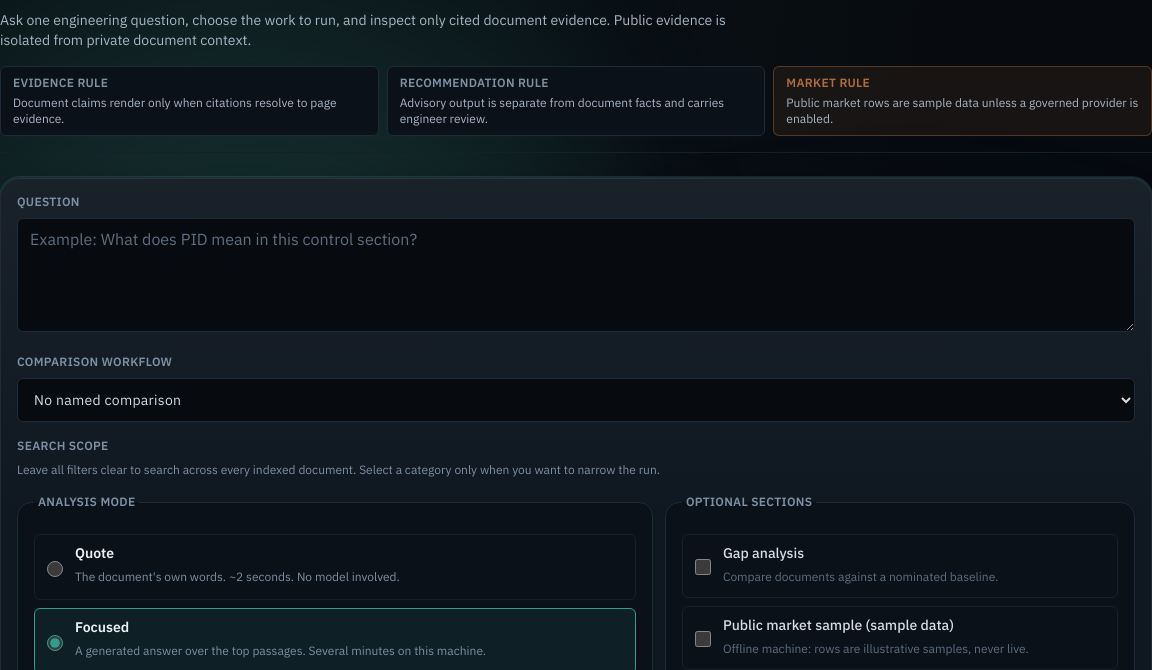
Test: removed sentences: the disclosure is never empty › renders the text, and the reason, when the payload carries them
Step 1. Type "submittals" into the text box labelled "Question" → (576, 275), box [17,218,1135,332]
(page scrolled)
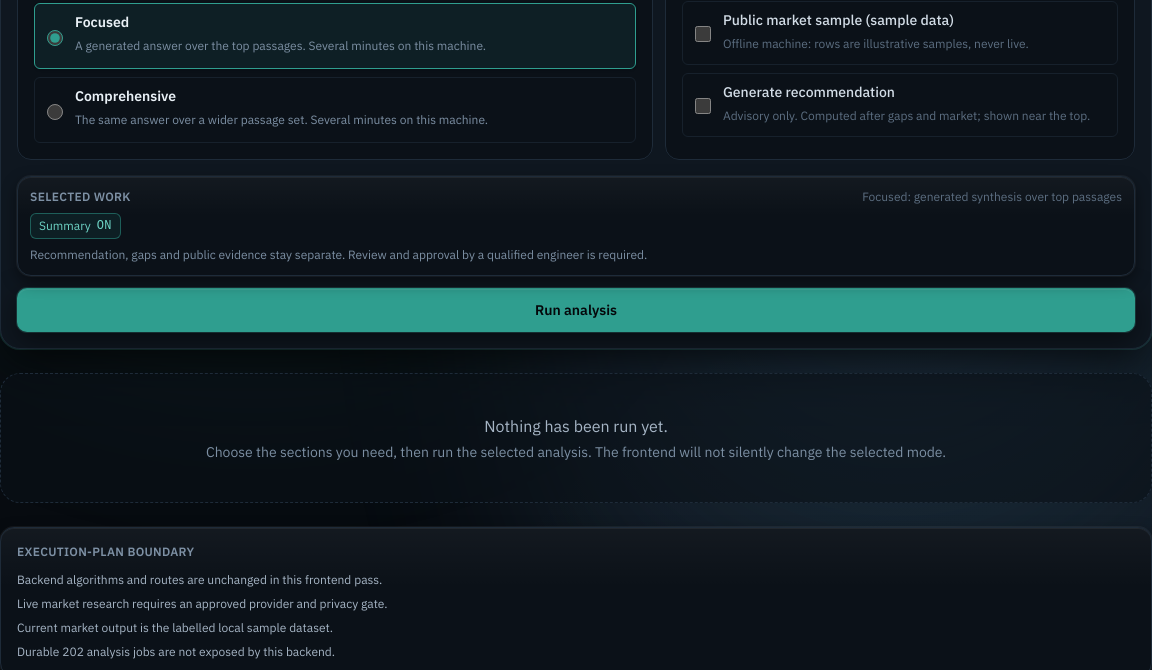
Step 2. Click the button "Run analysis" → click(576, 310), box [17,288,1135,332]
(page scrolled)
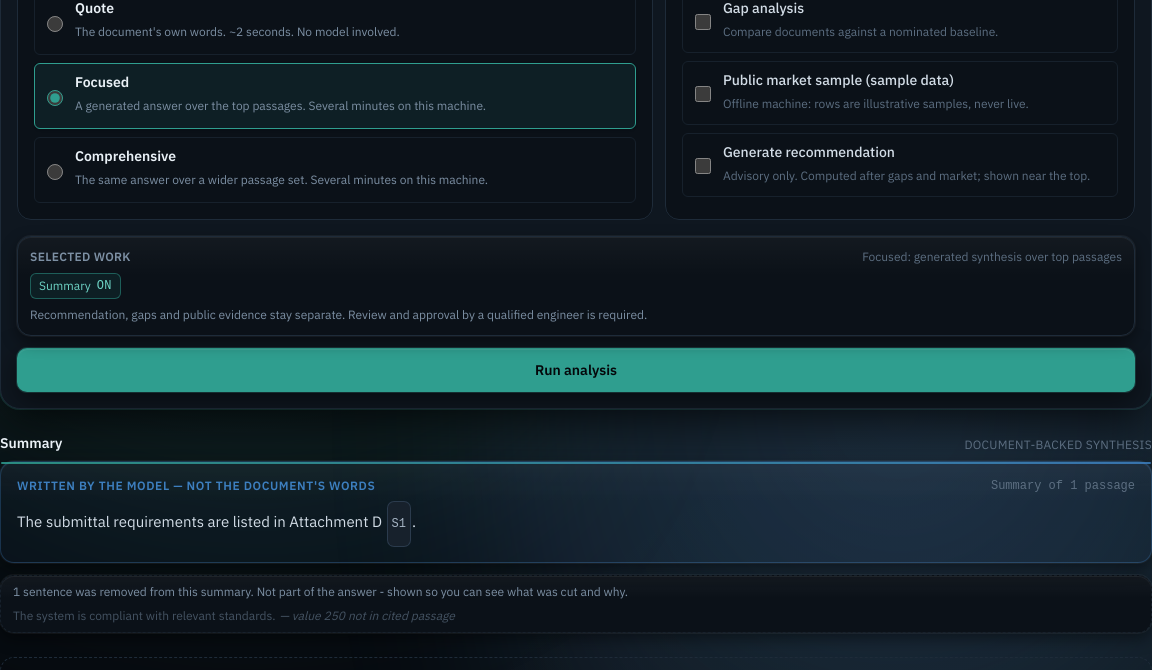
Expected: the text "1 sentence was removed from this summary" is shown, [13,584,628,599]
Expected: the list item shows "The system is compliant with relevant standards.", [13,608,276,623]
Expected: the list item shows "value 250 not in cited passage", [292,608,455,623]
